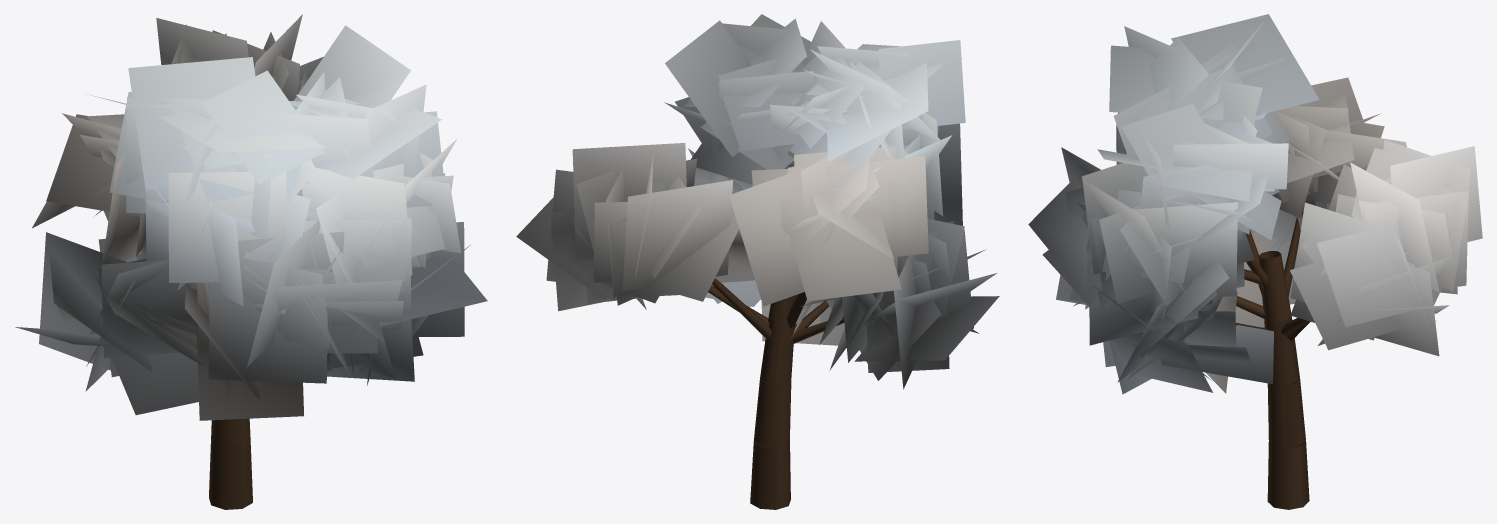
The model's file is broadleaf_1.glb.
The picture shows the model from 3 angles, left to right: view 1: azimuth 30°, elevation 25°; view 2: azimuth 150°, elevation 25°; view 3: azimuth 270°, elevation 25°; orthographic projection. The views are drawn at different scales.
Visible parts, largest first — view 1: broadleaf_1; view 2: broadleaf_1; view 3: broadleaf_1.
Boxes of the visible parts, x1,y1,x2,y2 form: broadleaf_1: (15, 14, 487, 509); broadleaf_1: (516, 14, 999, 509); broadleaf_1: (1028, 14, 1482, 509).
Bounding box in the file's own units: 5.43 × 5.88 × 5.64.
